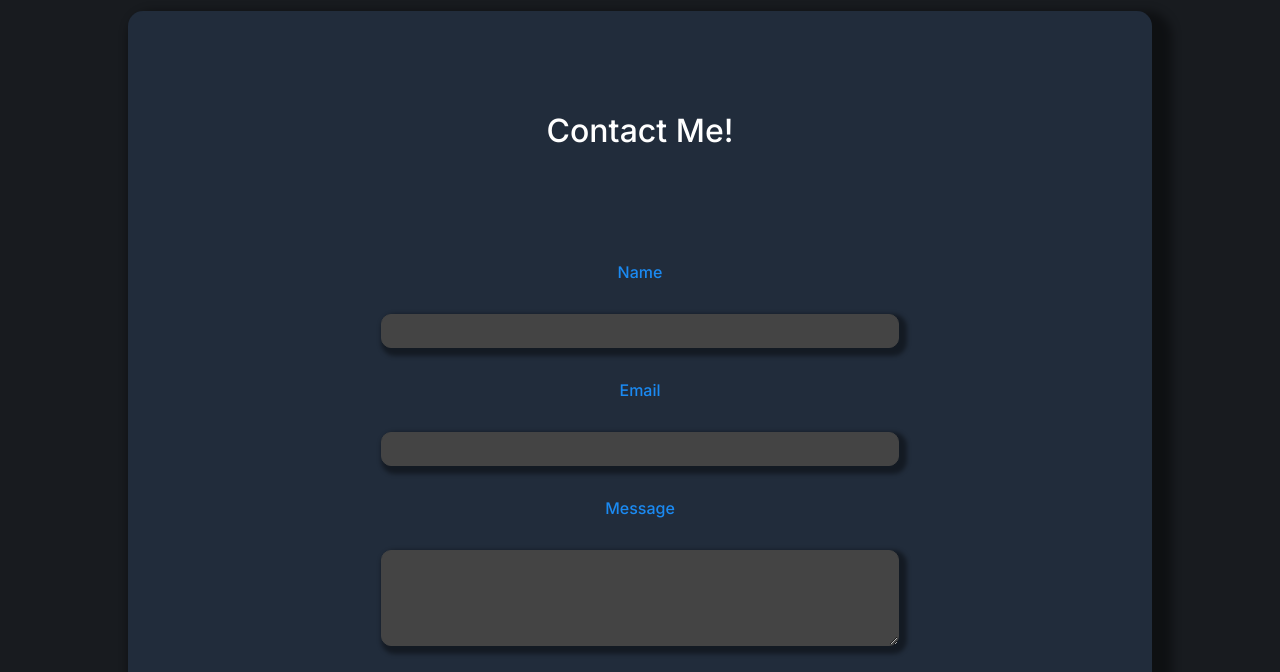
Test: should give email sent if contact form has input › render email sent
(page scrolled)
Type "Josh" into the field with id "nameInput".
click(640, 331); type("Josh")  # box [381, 314, 899, 348]
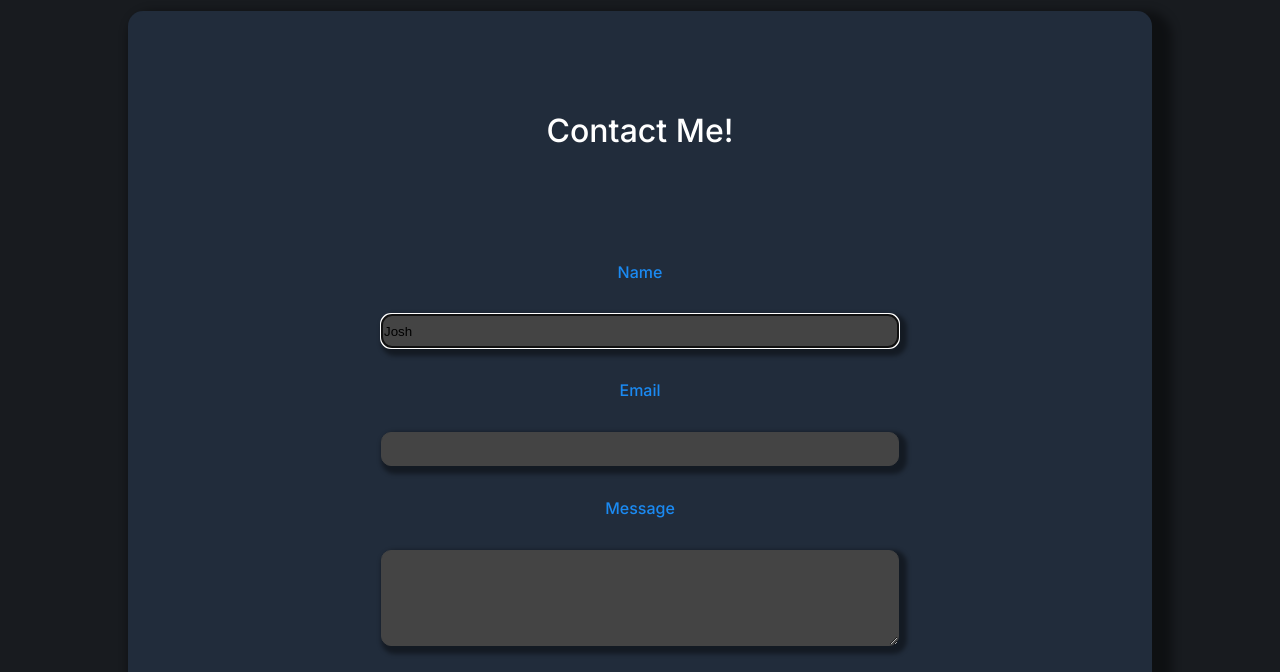
Type "Josh" into the field with id "emailInput".
click(640, 449); type("Josh")  # box [381, 432, 899, 466]
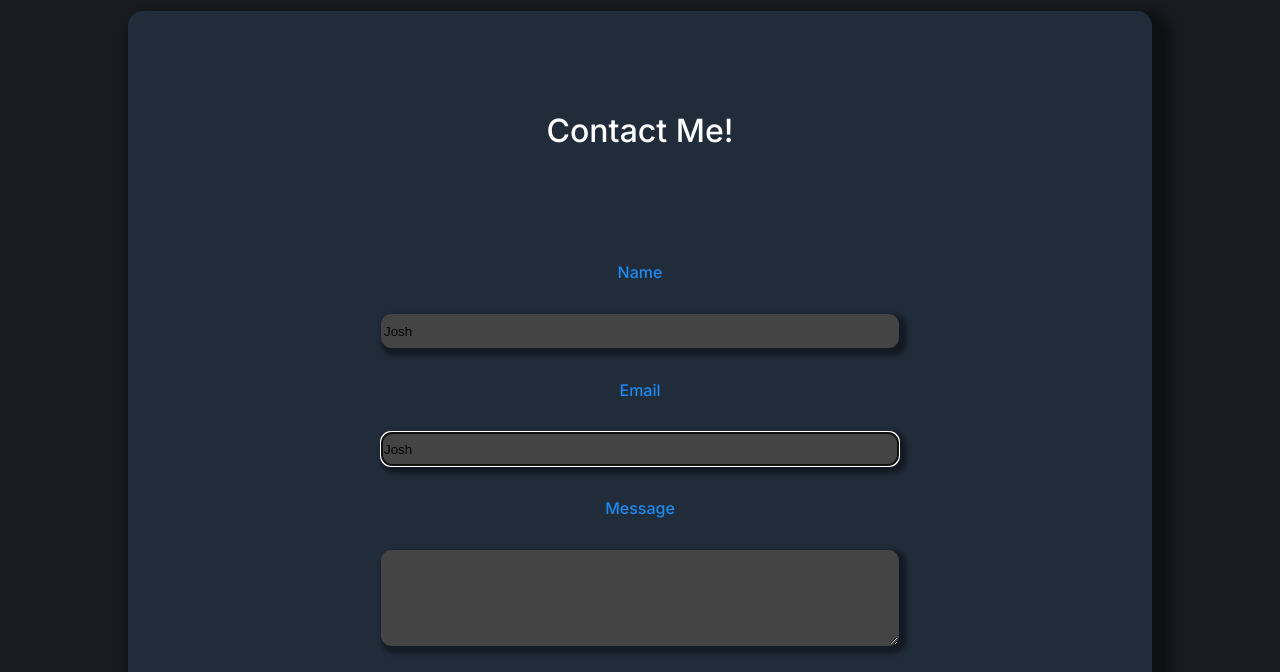
Type "Josh" into the text box with id "messageInput".
click(640, 598); type("Josh")  # box [381, 550, 899, 646]
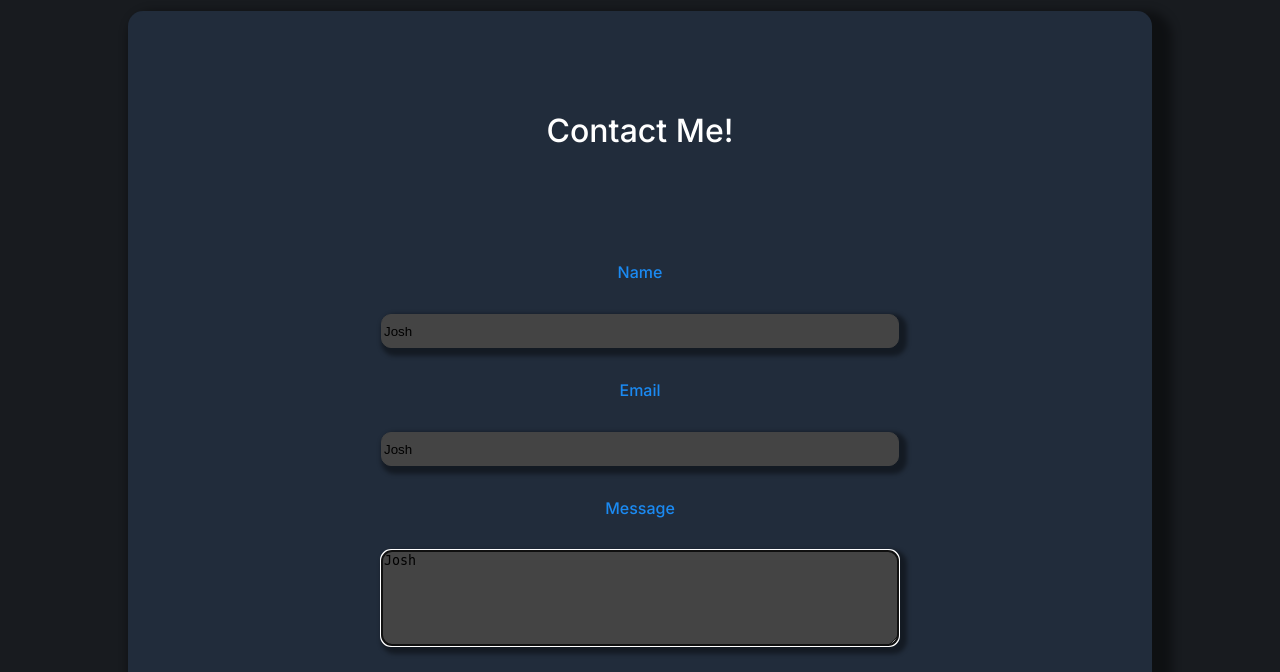
Scroll
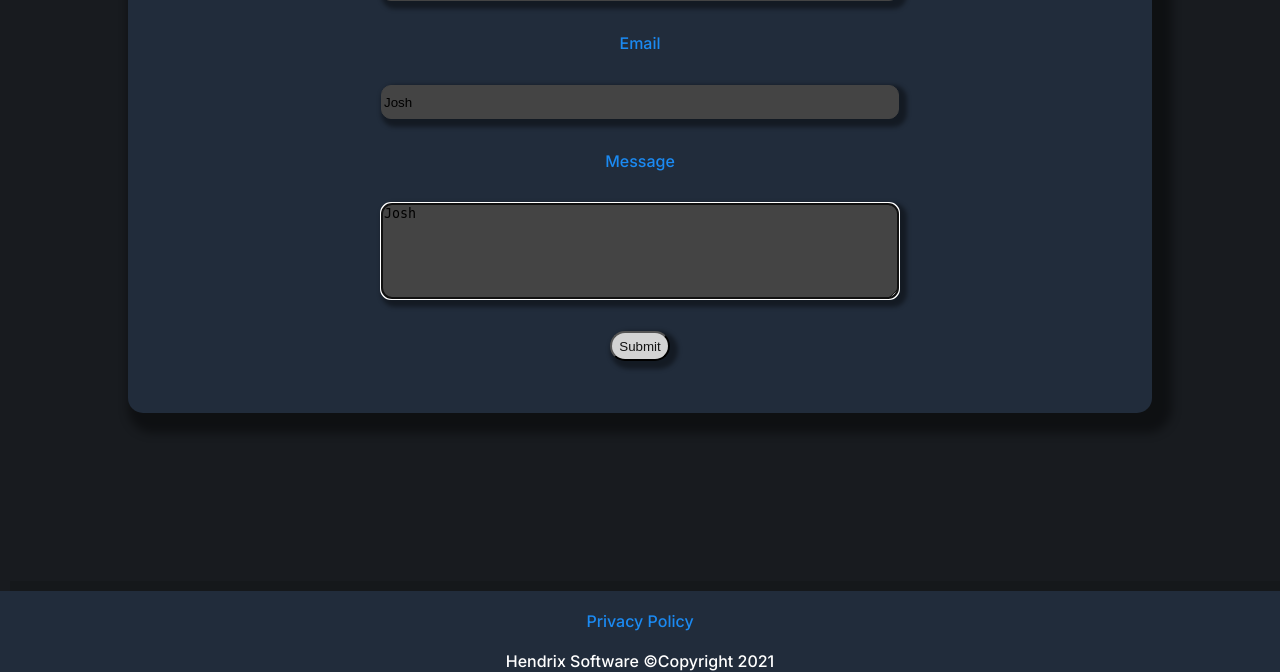
Click the button with id "submitButton".
click(640, 346)  # box [610, 331, 670, 361]
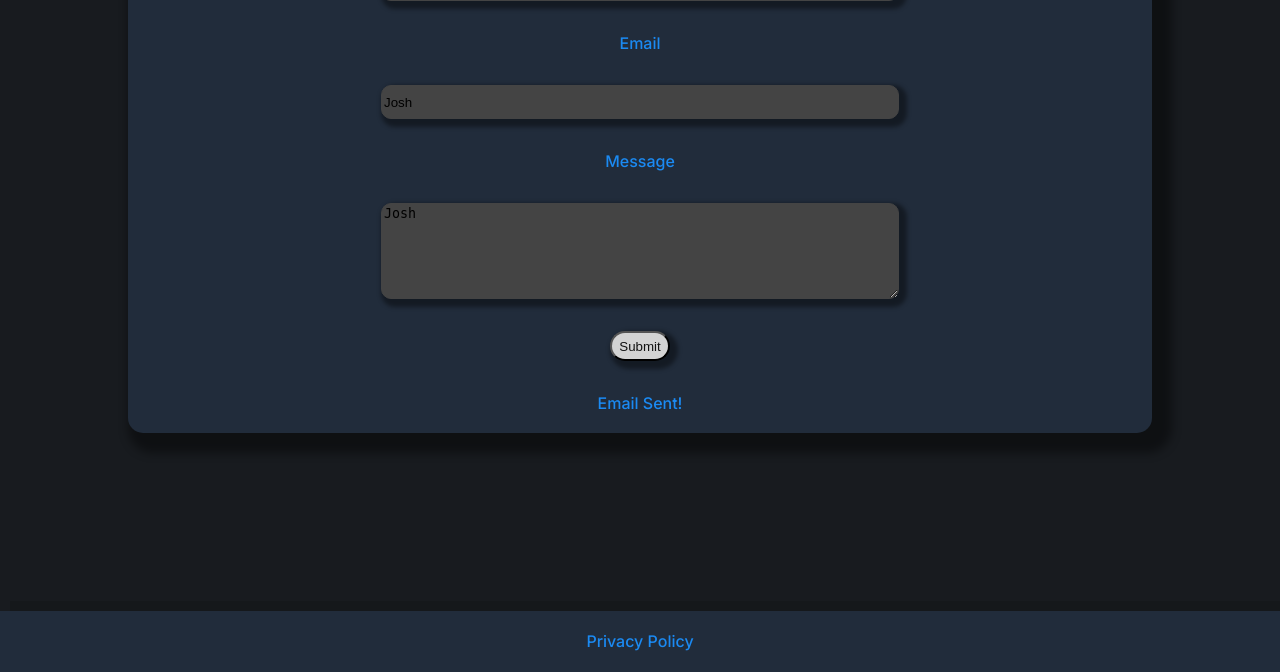
Result: the text "Email Sent!" is shown at [598, 393, 682, 413]
